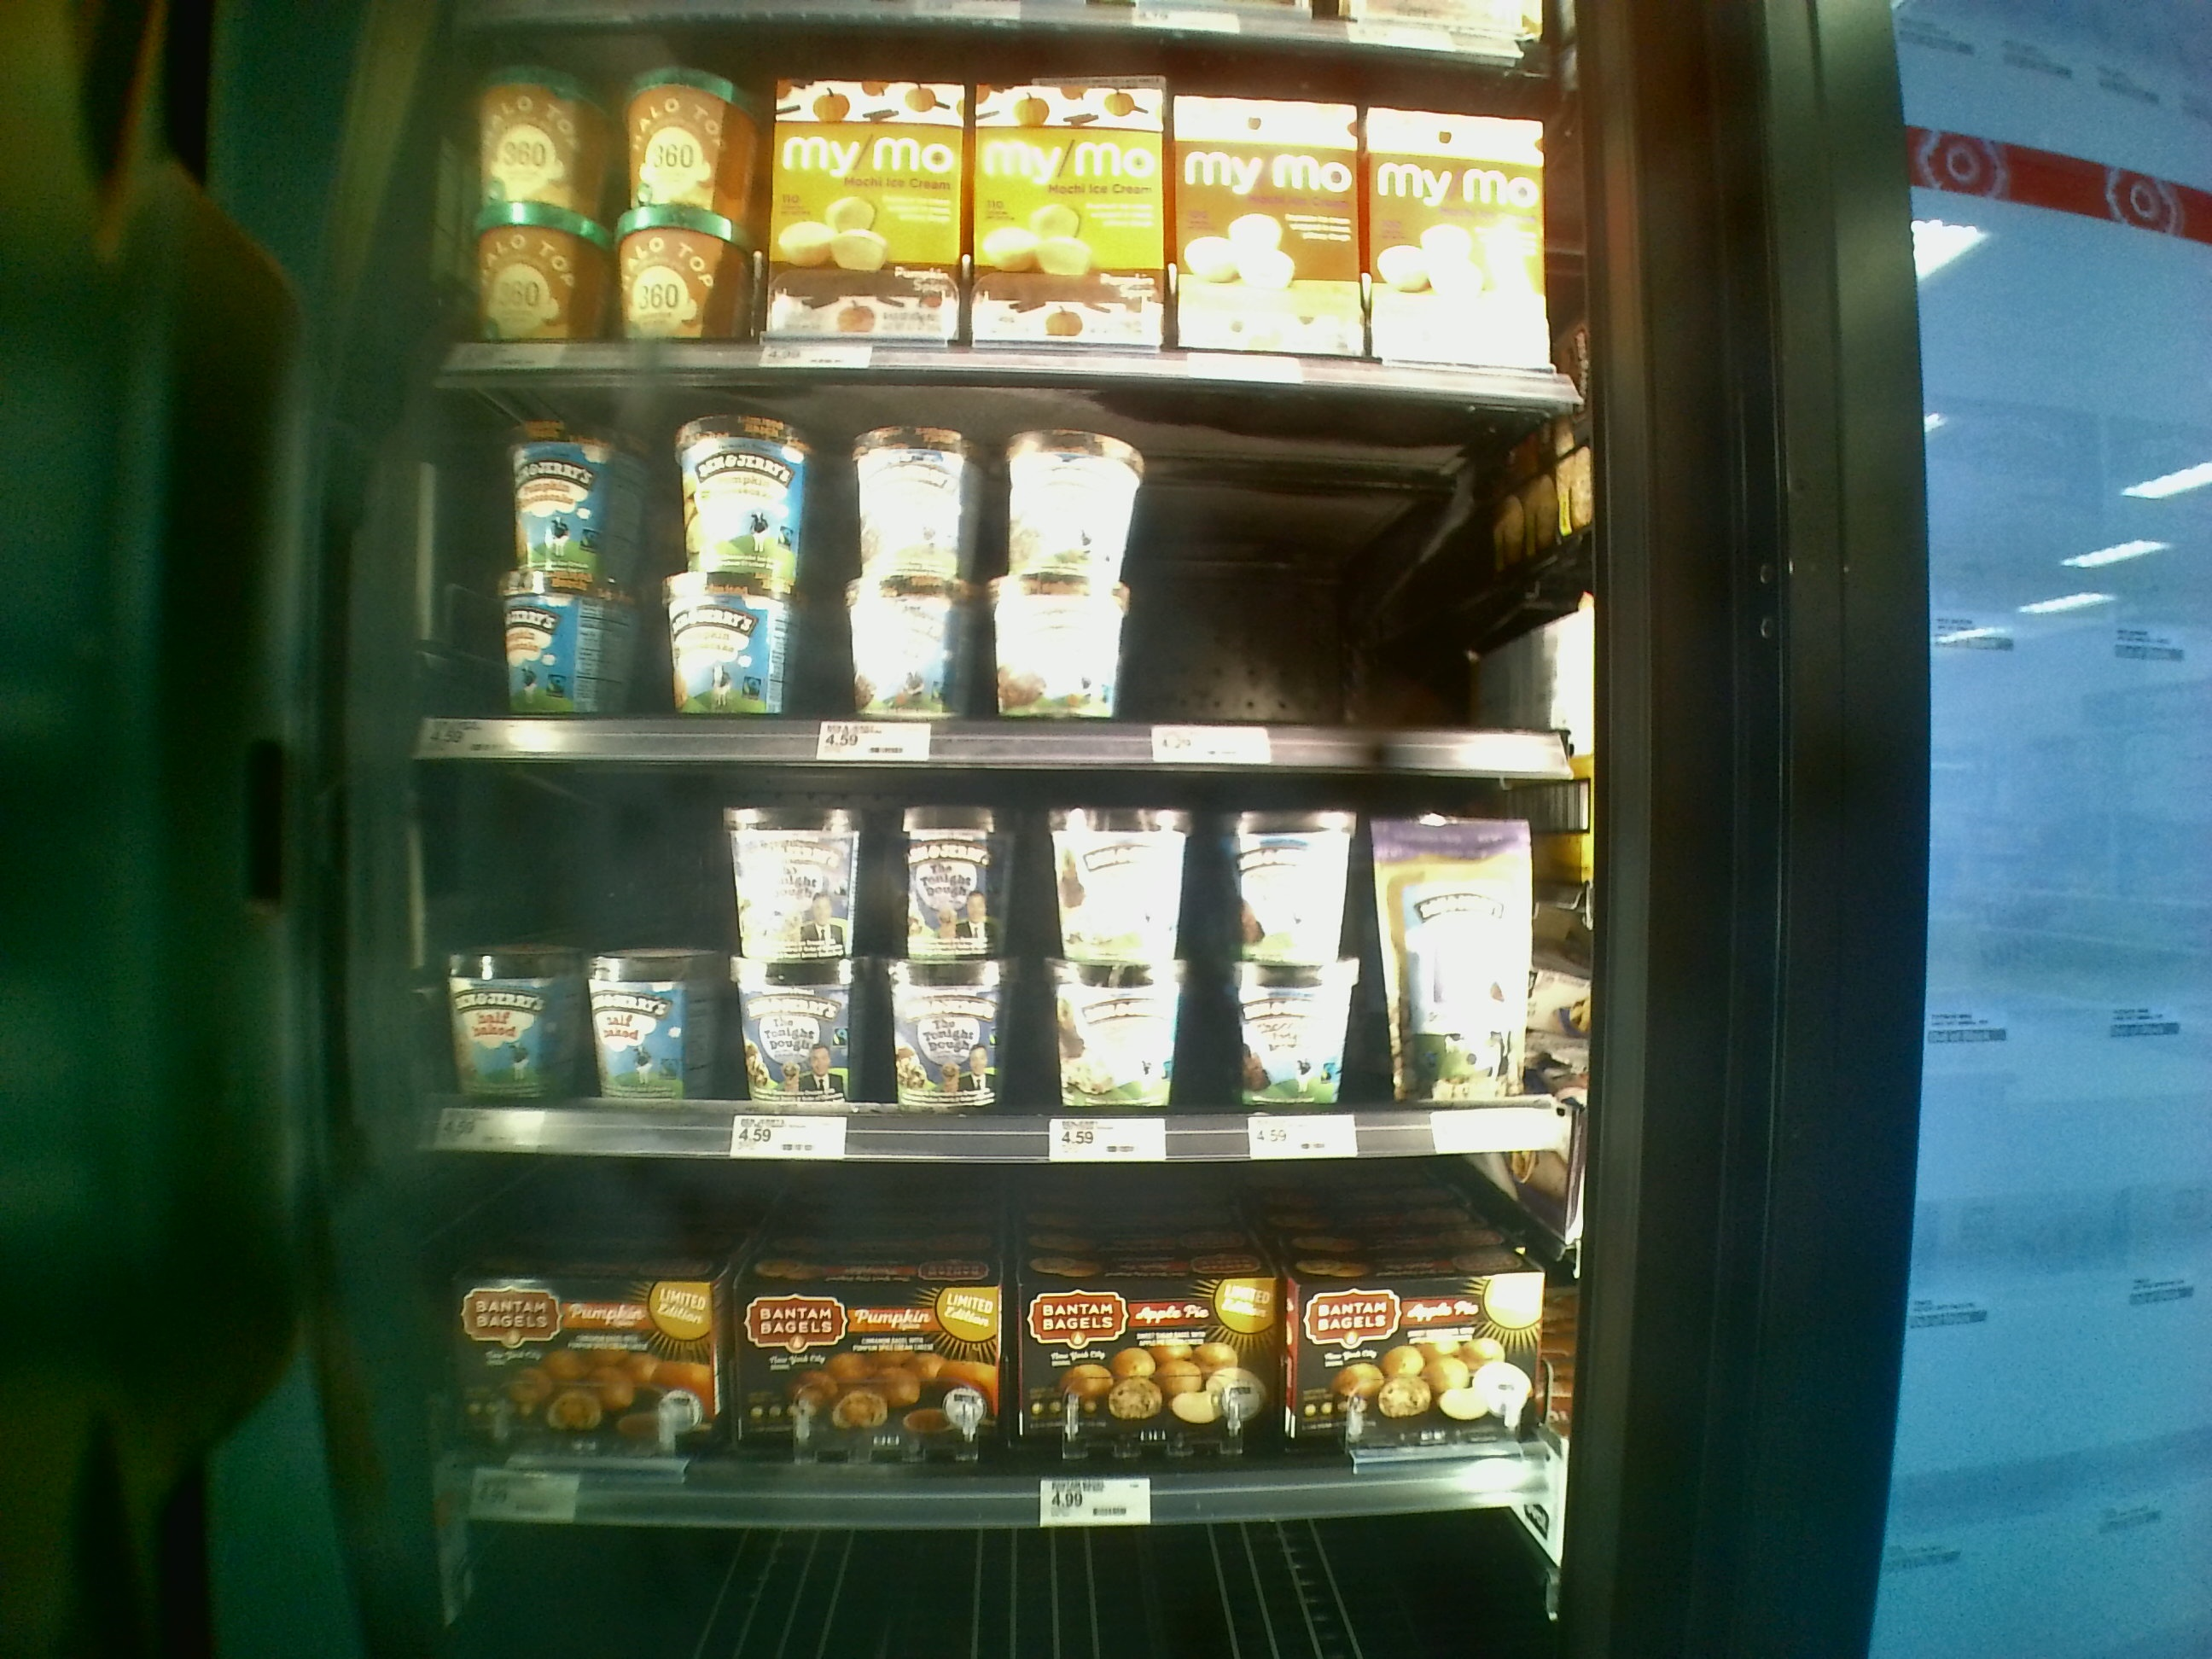shelf: (415, 730, 1575, 1154), (427, 354, 1561, 758), (409, 1122, 1545, 1507)
